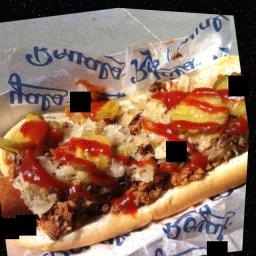hotdog: (0, 171, 26, 224)
